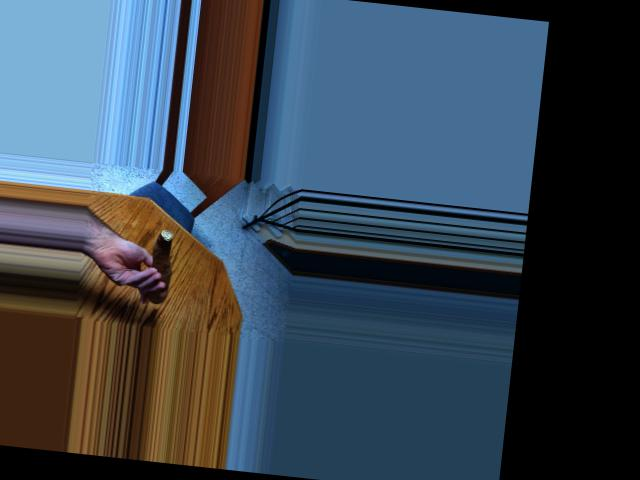sweet_potato: (142, 233, 181, 300)
